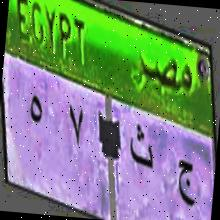5: (26, 90, 46, 133)
7: (64, 98, 88, 160)
jeem: (171, 150, 200, 214)
thaa: (125, 116, 160, 183)
